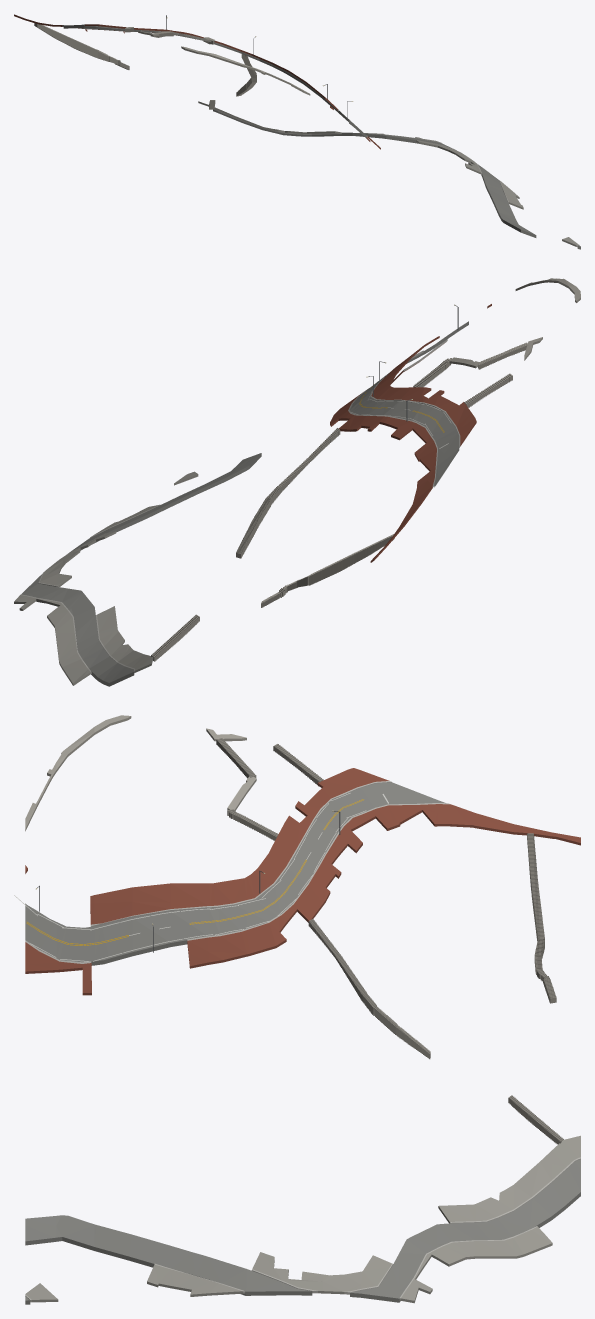
File: 18-218907-118976.a913cafa.glb
The picture shows the model from 3 angles, top to bottom: view 1: azimuth 30°, elevation 25°; view 2: azimuth 150°, elevation 25°; view 3: azimuth 270°, elevation 25°; orthographic projection. The views are drawn at different scales.
Bounding box in the file's own units: 147 × 104 × 149.
